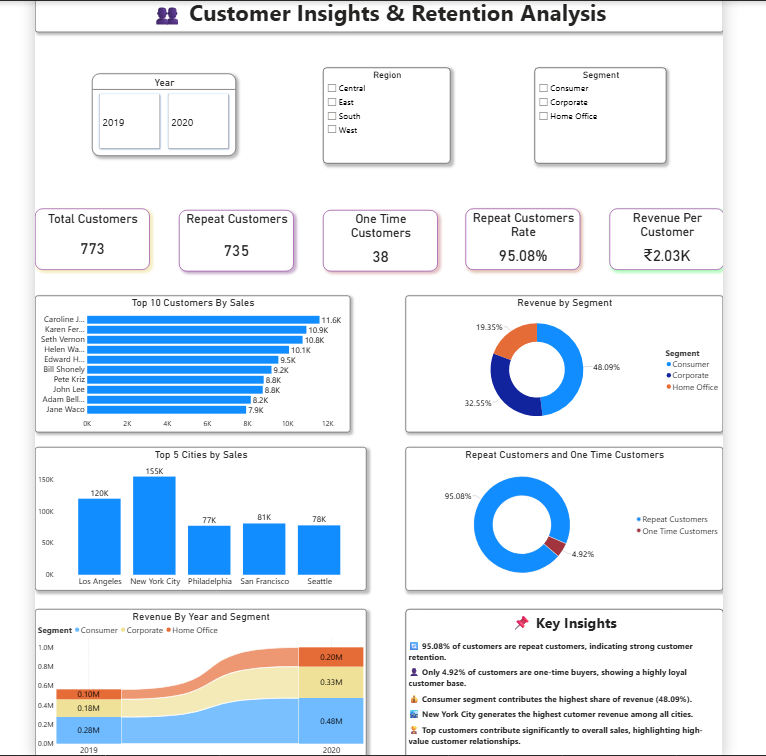

This screenshot's page, from the dashboard's own definition file:
{"tool":"powerbi","page":{"name":"Page 3","canvas":[2700,3000],"ordinal":2},"visuals":[{"type":"card","title":" Total Customers  ","fields":{"Values":["_Measures.Total Customers"]},"box":[0,840.9,450,240.9],"z":0},{"type":"card","title":" Repeat Customers  ","fields":{"Values":["_Measures.Repeat Customers"]},"box":[563.6,845.5,450,240.9],"z":1000},{"type":"card","title":"One Time Customers  ","fields":{"Values":["_Measures.One Time Customers"]},"box":[1127.3,845.5,450,240.9],"z":2000},{"type":"card","title":"Repeat Customers  Rate","fields":{"Values":["_Measures.Repeat Customer %"]},"box":[1686.4,840.9,450,240.9],"z":3000},{"type":"card","title":"Revenue Per Customer","fields":{"Values":["_Measures.Revenue per Customer"]},"box":[2250,840.9,450,240.9],"z":4000},{"type":"clusteredBarChart","title":"Top 10 Customers By Sales ","fields":{"Category":["Dim_Customer.Customer Name"],"Y":["_Measures.Total Sales"]},"box":[0,1181.8,1236.4,536.4],"z":5000},{"type":"donutChart","title":"Revenue by Segment","fields":{"Category":["Dim_Customer.Segment"],"Y":["_Measures.Total Sales"]},"box":[1454.5,1181.8,1245.5,536.4],"z":6000},{"type":"clusteredColumnChart","title":"Top 5 Cities by Sales","fields":{"Category":["fact table.City"],"Y":["_Measures.Total Sales"]},"box":[0,1777.3,1300,563.6],"z":7000},{"type":"donutChart","fields":{"Y":["_Measures.Repeat Customers","_Measures.One Time Customers"]},"box":[1454.5,1777.3,1245.5,563.6],"z":8000},{"type":"columnChart","title":"Revenue By Year and Segment","fields":{"Category":["Dim_Date.Date.Variation.Date Hierarchy.Year"],"Series":["Dim_Customer.Segment"],"Y":["_Measures.Total Sales"]},"box":[0,2409.1,1300,590.9],"z":9000},{"type":"textbox","box":[0,0,2700,150],"z":10000},{"type":"textbox","box":[1452.9,2411.8,1247.1,588.2],"z":11000},{"type":"advancedSlicerVisual","fields":{"Values":["Dim_Date.Date.Variation.Date Hierarchy.Year"]},"box":[223.5,311.8,564.7,323.5],"z":12000},{"type":"slicer","title":"Region","fields":{"Values":["fact table.Region"]},"box":[1129.4,288.2,500,376.5],"z":13000},{"type":"slicer","title":"Segment","fields":{"Values":["fact table.Segment"]},"box":[1958.8,288.2,517.6,376.5],"z":14000}]}

Visuals, with their boxes on the page's 2700x3000 design canvas (x1, y1, x2, y2). These are canvas units, not pixel positions in the 766x756 screenshot, which may show the page scaled, cropped or inside an application window:
" Total Customers  " card: <region>0, 841, 450, 1082</region>
" Repeat Customers  " card: <region>564, 846, 1014, 1086</region>
"One Time Customers  " card: <region>1127, 846, 1577, 1086</region>
"Repeat Customers  Rate" card: <region>1686, 841, 2136, 1082</region>
"Revenue Per Customer" card: <region>2250, 841, 2700, 1082</region>
"Top 10 Customers By Sales " clusteredBarChart: <region>0, 1182, 1236, 1718</region>
"Revenue by Segment" donutChart: <region>1454, 1182, 2700, 1718</region>
"Top 5 Cities by Sales" clusteredColumnChart: <region>0, 1777, 1300, 2341</region>
donutChart - _Measures.Repeat Customers x _Measures.One Time Customers: <region>1454, 1777, 2700, 2341</region>
"Revenue By Year and Segment" columnChart: <region>0, 2409, 1300, 3000</region>
textbox: <region>0, 0, 2700, 150</region>
textbox: <region>1453, 2412, 2700, 3000</region>
advancedSlicerVisual - Dim_Date.Date.Variation.Date Hierarchy.Year: <region>224, 312, 788, 635</region>
"Region" slicer: <region>1129, 288, 1629, 665</region>
"Segment" slicer: <region>1959, 288, 2476, 665</region>
